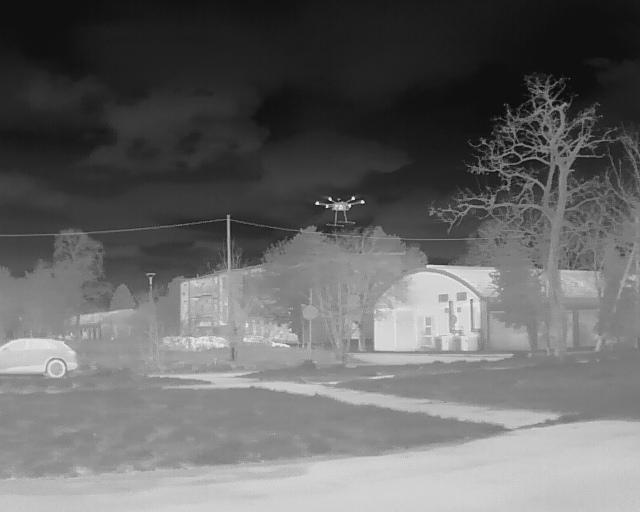drone: (314, 191, 365, 227)
